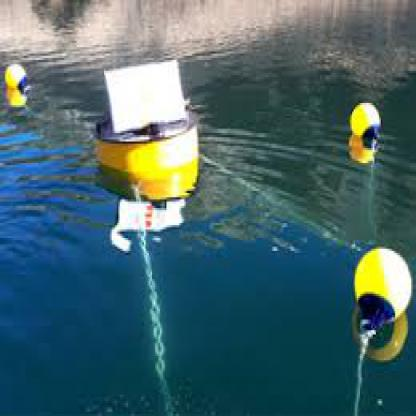buoy: (78, 47, 208, 206)
